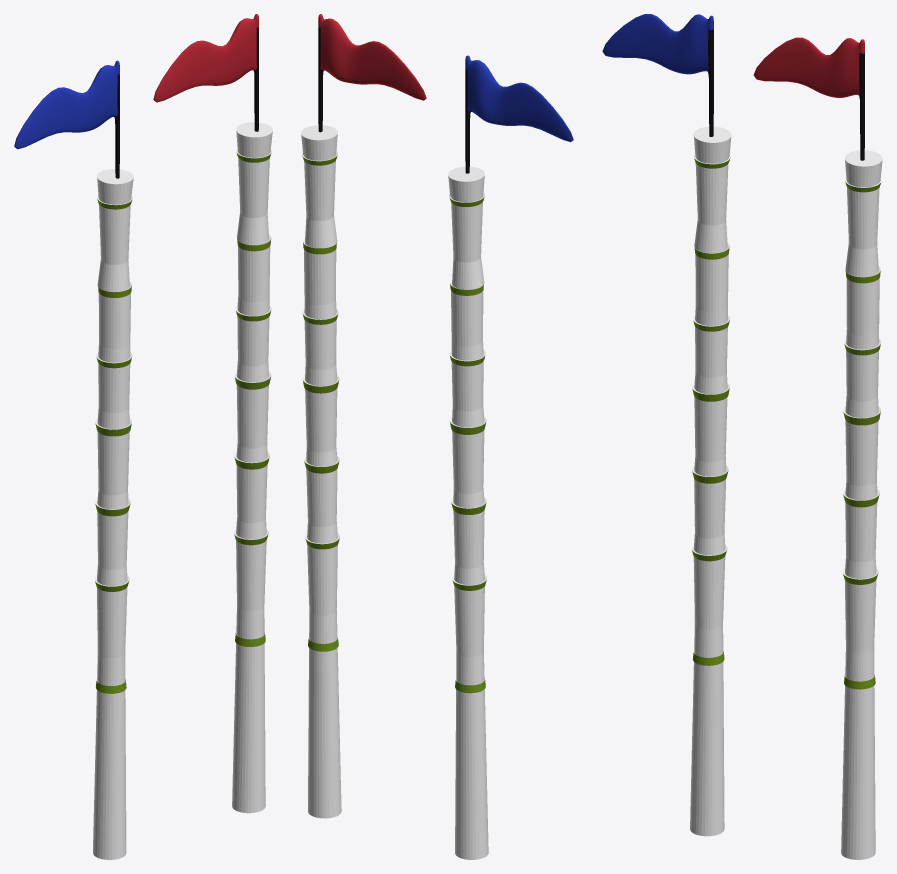
File: palosebo.glb
The picture shows the model from 3 angles, left to right: view 1: azimuth 30°, elevation 25°; view 2: azimuth 150°, elevation 25°; view 3: azimuth 330°, elevation 25°; orthographic projection. The views are drawn at different scales.
Parts seen in each view (by area): view 1: bamboo blue, bamboo red; view 2: bamboo blue, bamboo red; view 3: bamboo red, bamboo blue.
Boxes of the visible parts, <box> form: bamboo blue: <box>14,60,133,859</box>; bamboo red: <box>153,14,272,813</box>; bamboo blue: <box>448,55,573,859</box>; bamboo red: <box>301,14,426,818</box>; bamboo red: <box>753,37,882,859</box>; bamboo blue: <box>602,14,731,836</box>.
Size of the model in its own units: 5.89 by 17.15 by 0.8597.
